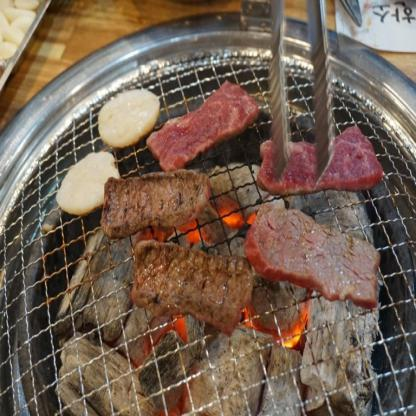Carne: (124, 235, 249, 340), (103, 164, 212, 233)
